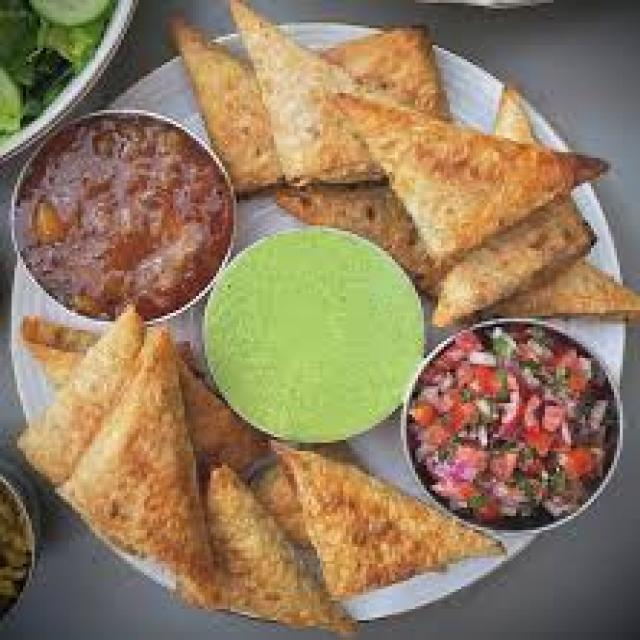SAMOSA: (329, 96, 600, 262), (66, 330, 216, 598), (271, 443, 499, 598), (231, 0, 378, 180), (208, 465, 349, 629)
